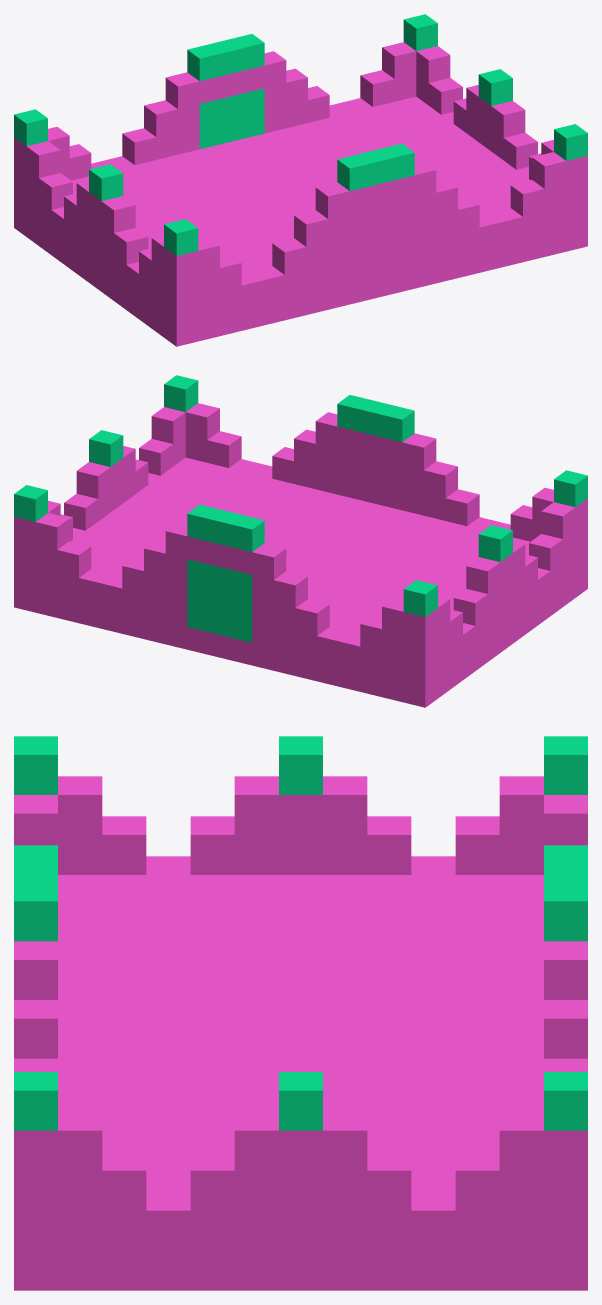
File: MaribelNivel5-1.obj
3 renders of one model, top to bottom at view 1: azimuth 30°, elevation 25°; view 2: azimuth 150°, elevation 25°; view 3: azimuth 270°, elevation 25°, orthographic. The views are drawn at different scales.
Size of the model in its own units: 1.9 by 0.6 by 1.3.
1 material, 1 textured.
